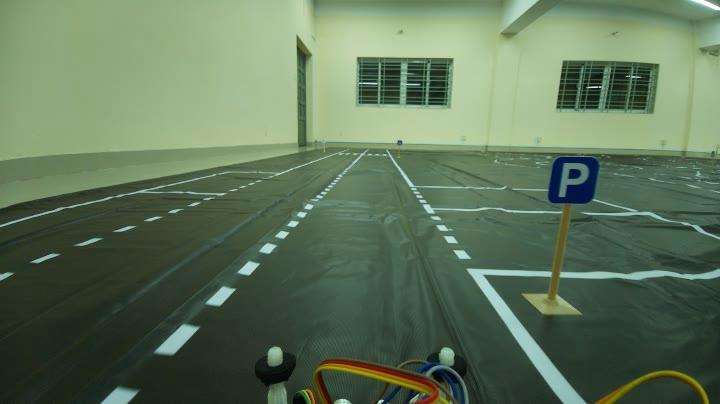parking: (541, 150, 602, 206)
